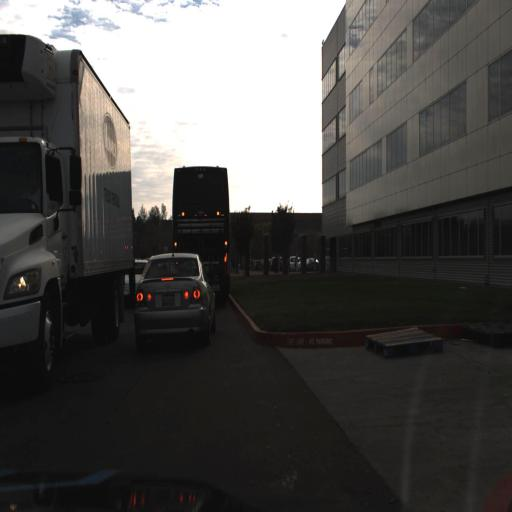car: (126, 252, 207, 337), (281, 251, 300, 274)
truck: (0, 25, 134, 389), (169, 160, 229, 306)
